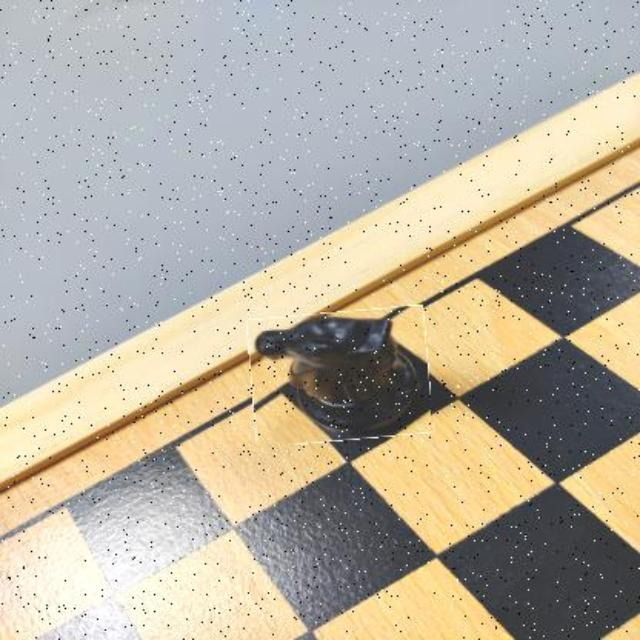black-knight: (249, 308, 429, 443)
